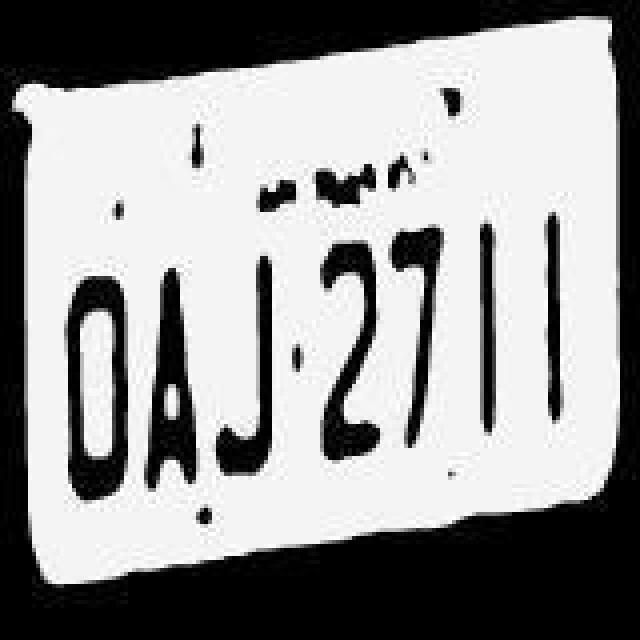1: (526, 190, 578, 466), (462, 198, 514, 458)
2: (306, 230, 382, 482)
7: (382, 224, 458, 480)
A: (138, 236, 206, 500)
J: (208, 226, 288, 494)
O: (56, 250, 136, 518)
